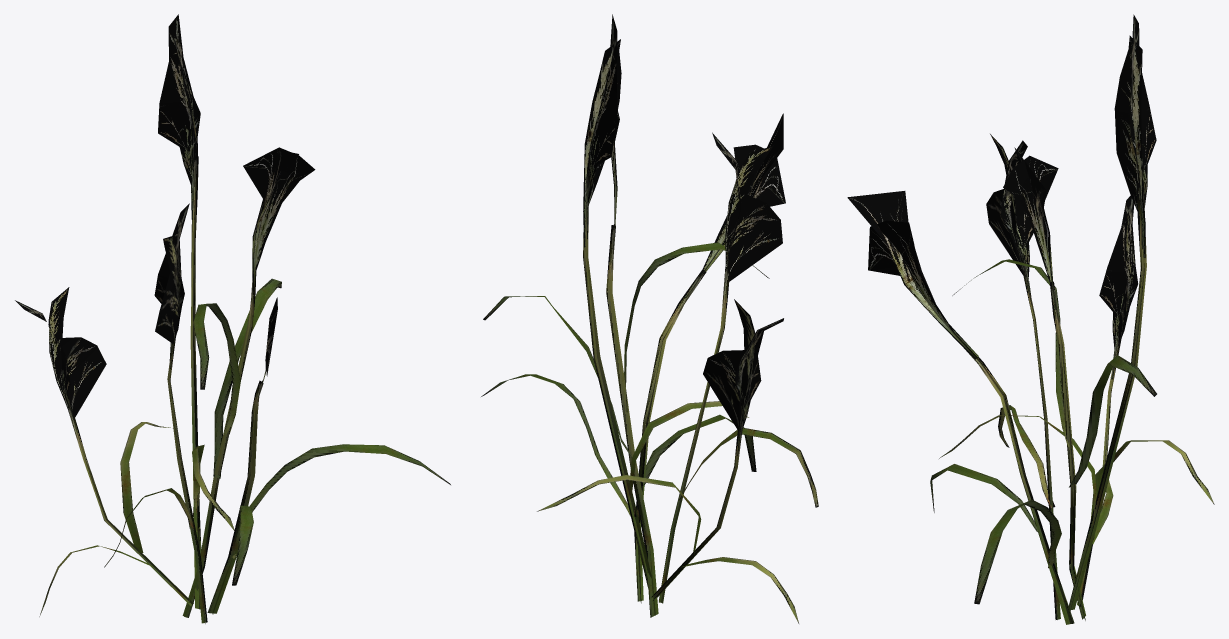
Rendered from natural-dry-fiber-source.glb.
The picture shows the model from 3 angles, left to right: view 1: azimuth 30°, elevation 25°; view 2: azimuth 150°, elevation 25°; view 3: azimuth 270°, elevation 25°; orthographic projection. The views are drawn at different scales.
Parts seen in each view (by area): view 1: natural-dry-fiber-source runtime mesh; view 2: natural-dry-fiber-source runtime mesh; view 3: natural-dry-fiber-source runtime mesh.
Part boxes in pixels (<box>): natural-dry-fiber-source runtime mesh: <box>15,14,450,623</box>; natural-dry-fiber-source runtime mesh: <box>481,14,818,623</box>; natural-dry-fiber-source runtime mesh: <box>847,14,1214,624</box>.
Bounding box in the file's own units: 0.272 × 0.42 × 0.2278.
Materials: 1 (1 with a texture image).
